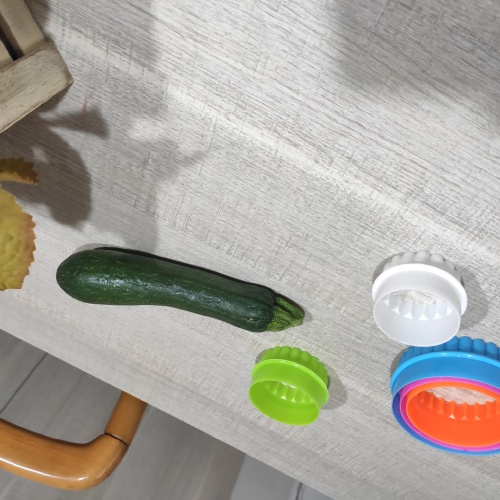zucchine: (57, 247, 311, 337)
